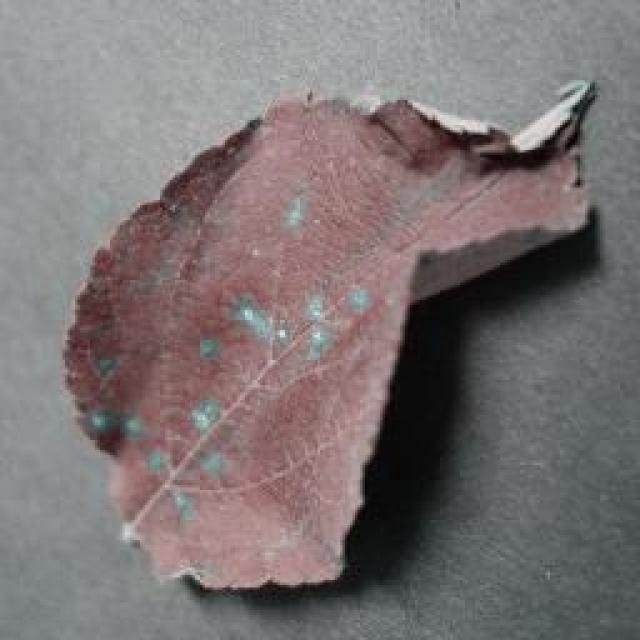apple cedar apple rust: (60, 75, 600, 593)
